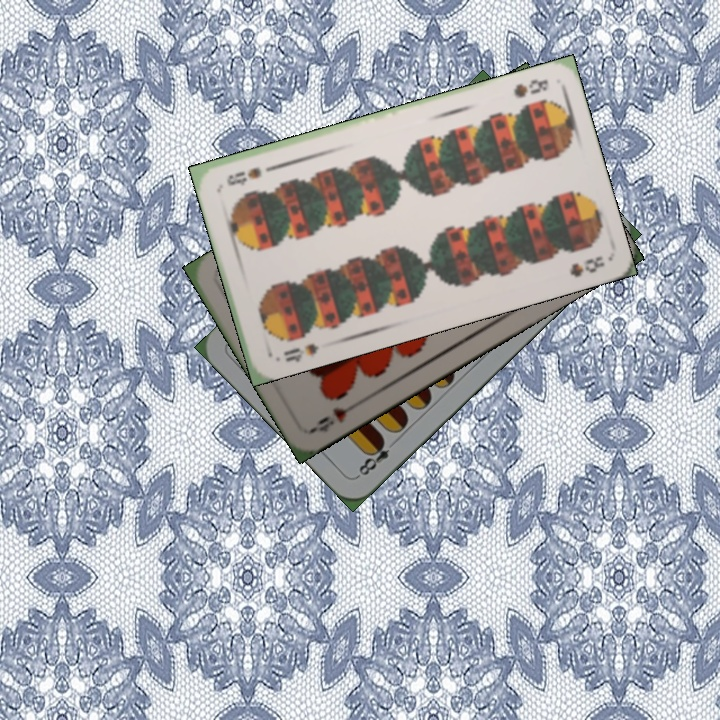E8: (353, 434, 393, 480)
H9: (308, 398, 363, 435)
S8: (279, 339, 321, 365), (509, 75, 551, 100)
